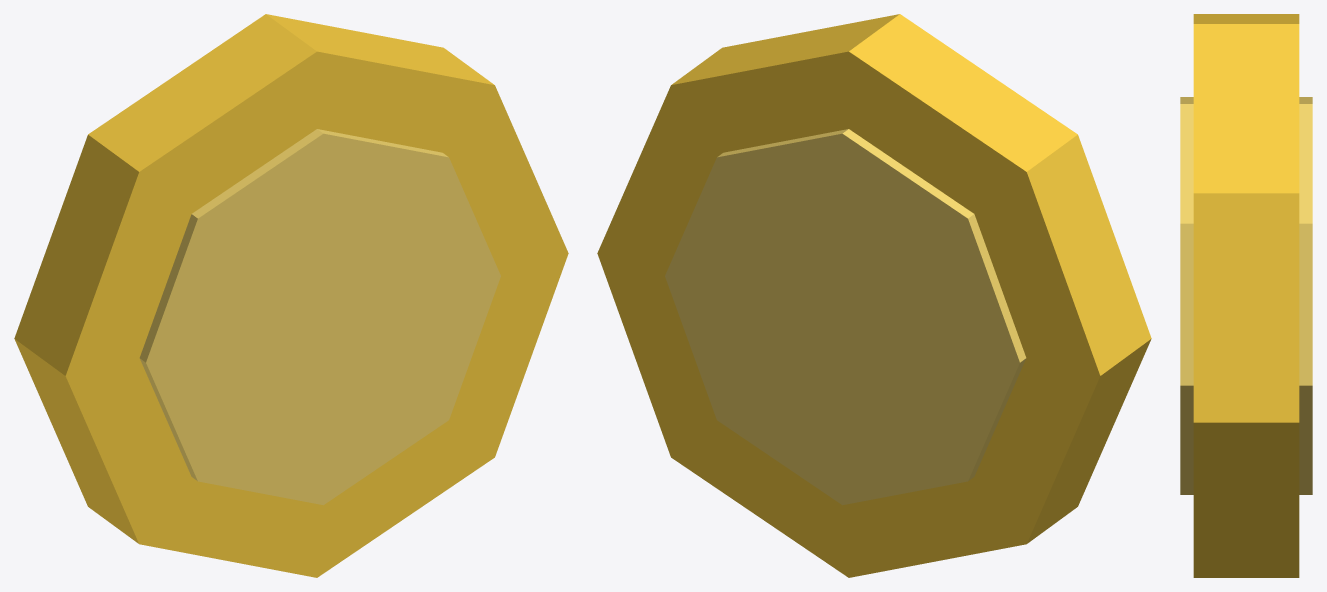
The model's file is PR_Coin.fbx.
The picture shows the model from 3 angles, left to right: view 1: azimuth 30°, elevation 25°; view 2: azimuth 150°, elevation 25°; view 3: azimuth 270°, elevation 25°; orthographic projection. The views are drawn at different scales.
Parts seen in each view (by area): view 1: PR_Coin; view 2: PR_Coin; view 3: PR_Coin.
Boxes of the visible parts, <box> form: PR_Coin: <box>14,14,568,577</box>; PR_Coin: <box>597,14,1151,577</box>; PR_Coin: <box>1180,14,1312,577</box>.
Size of the model in its own units: 0.34 by 0.075 by 0.34.
